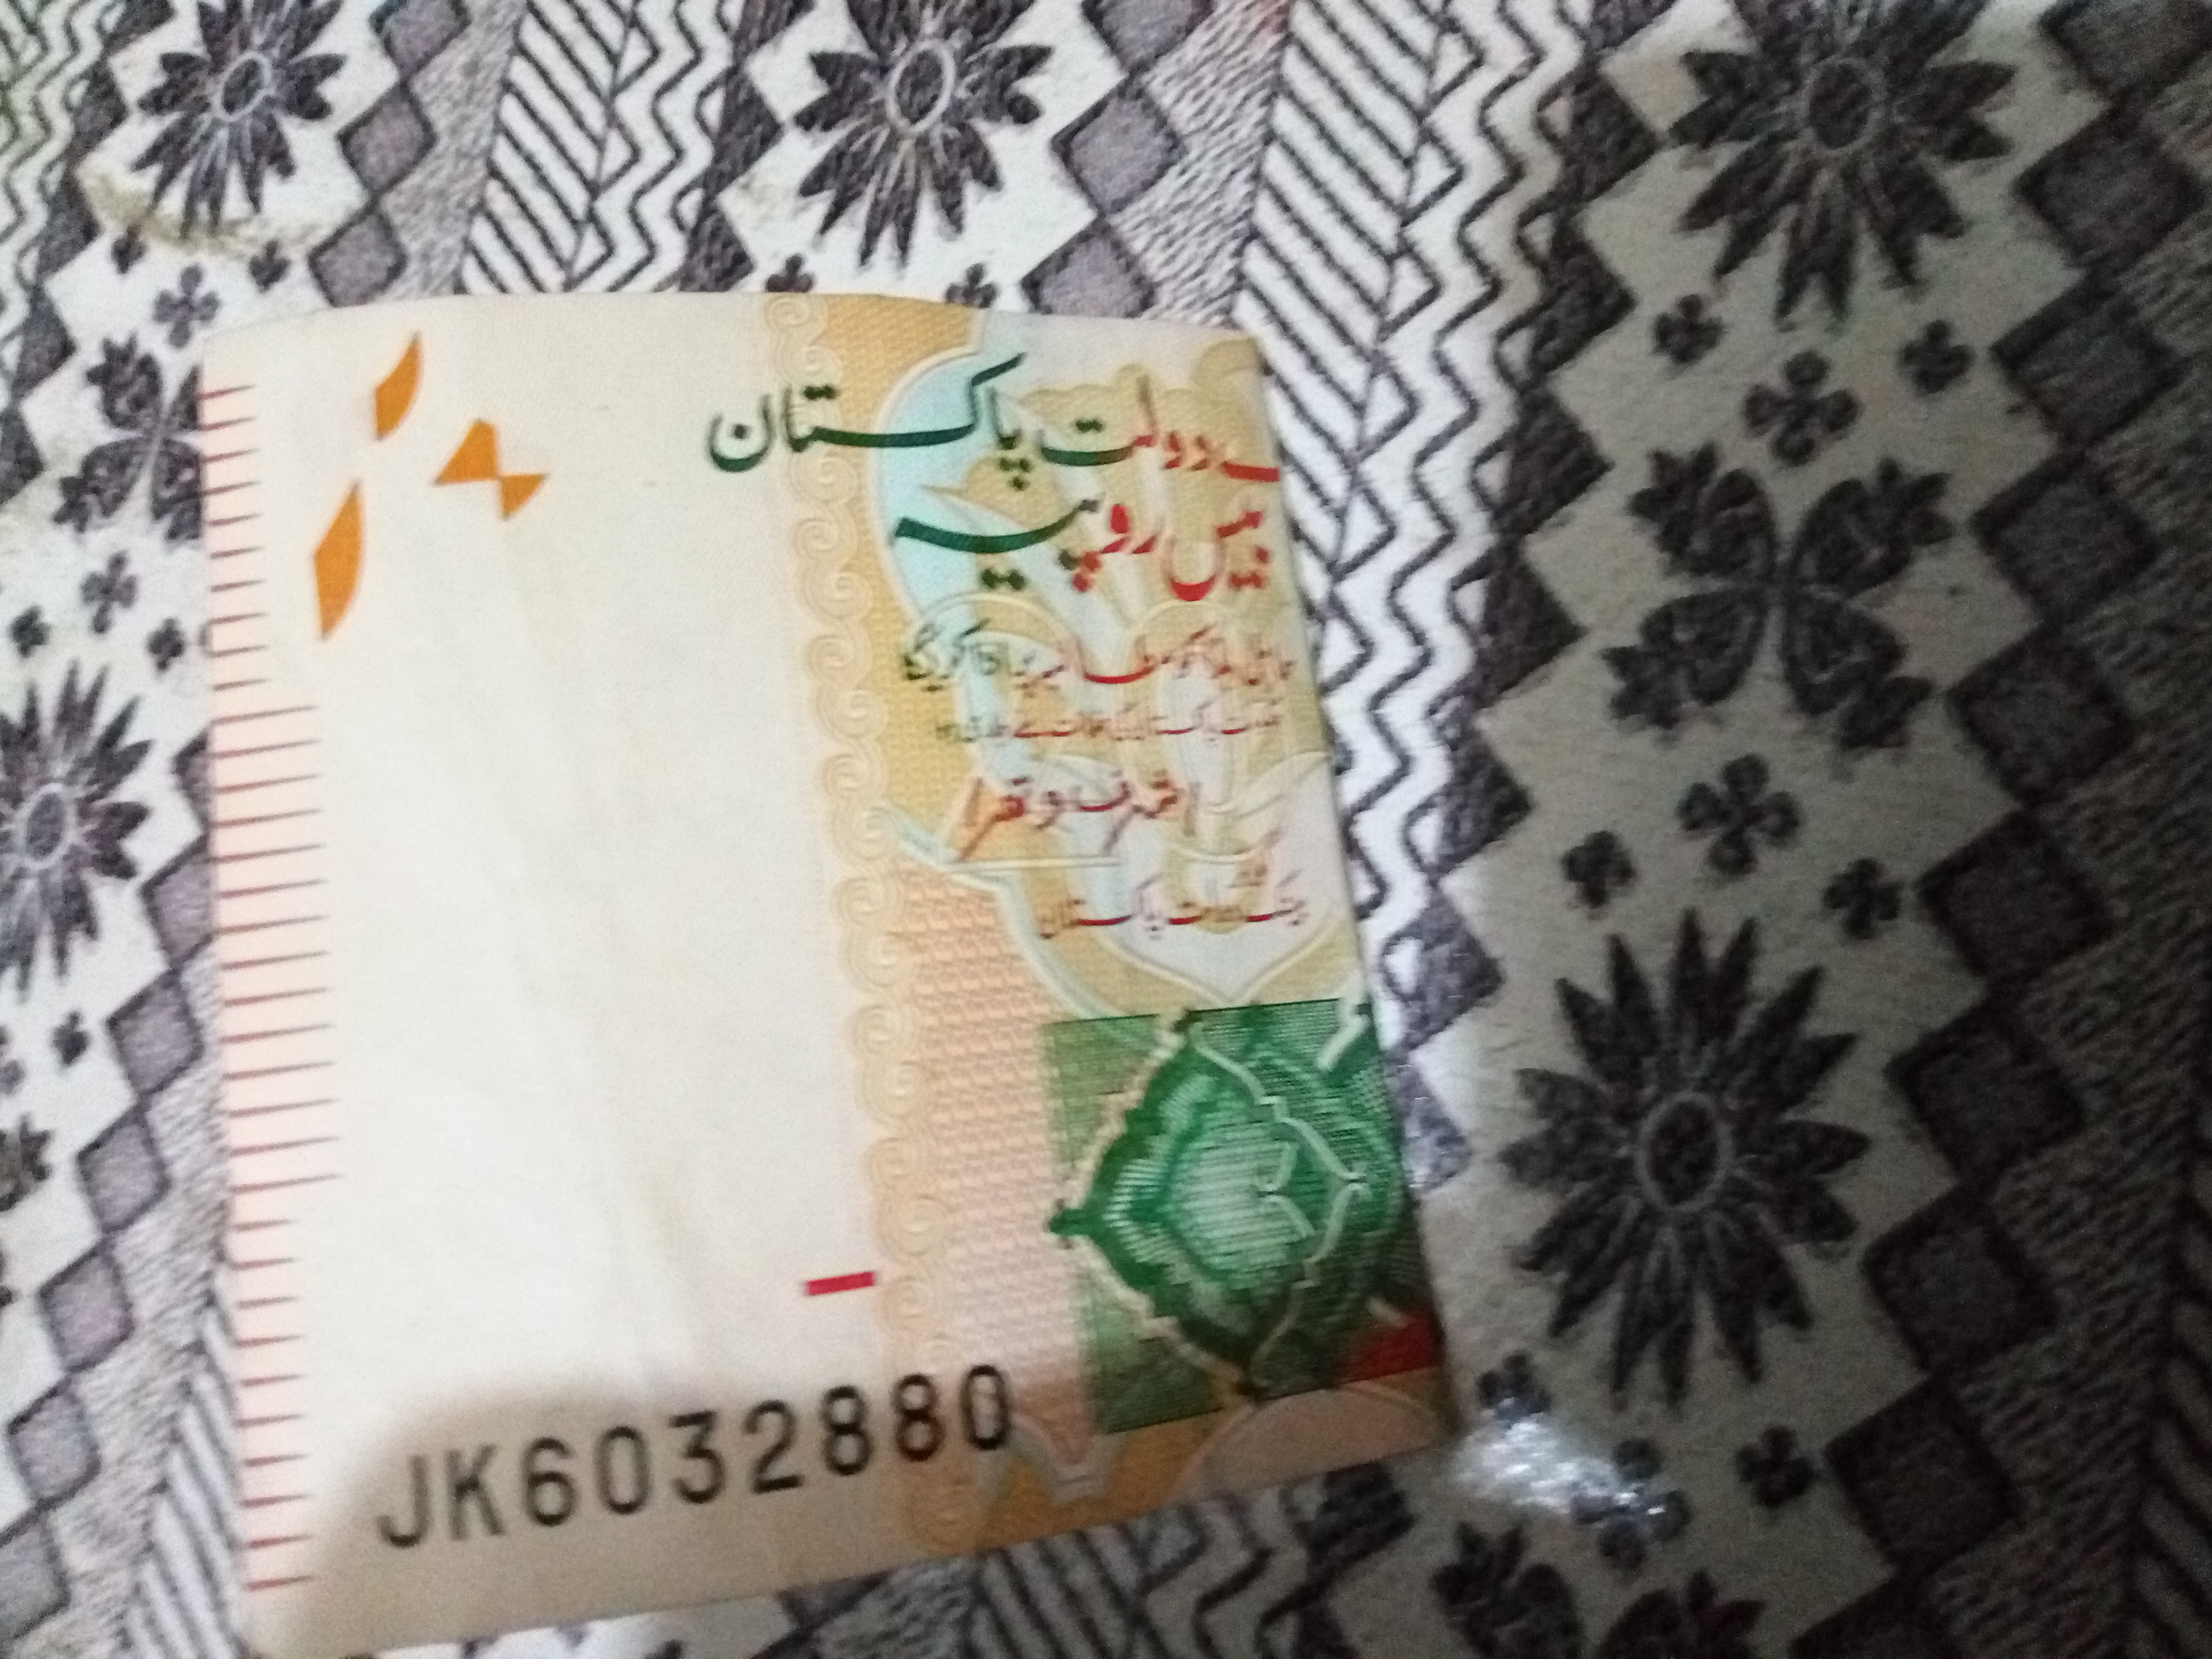20 rupee: (136, 223, 1594, 1624)
